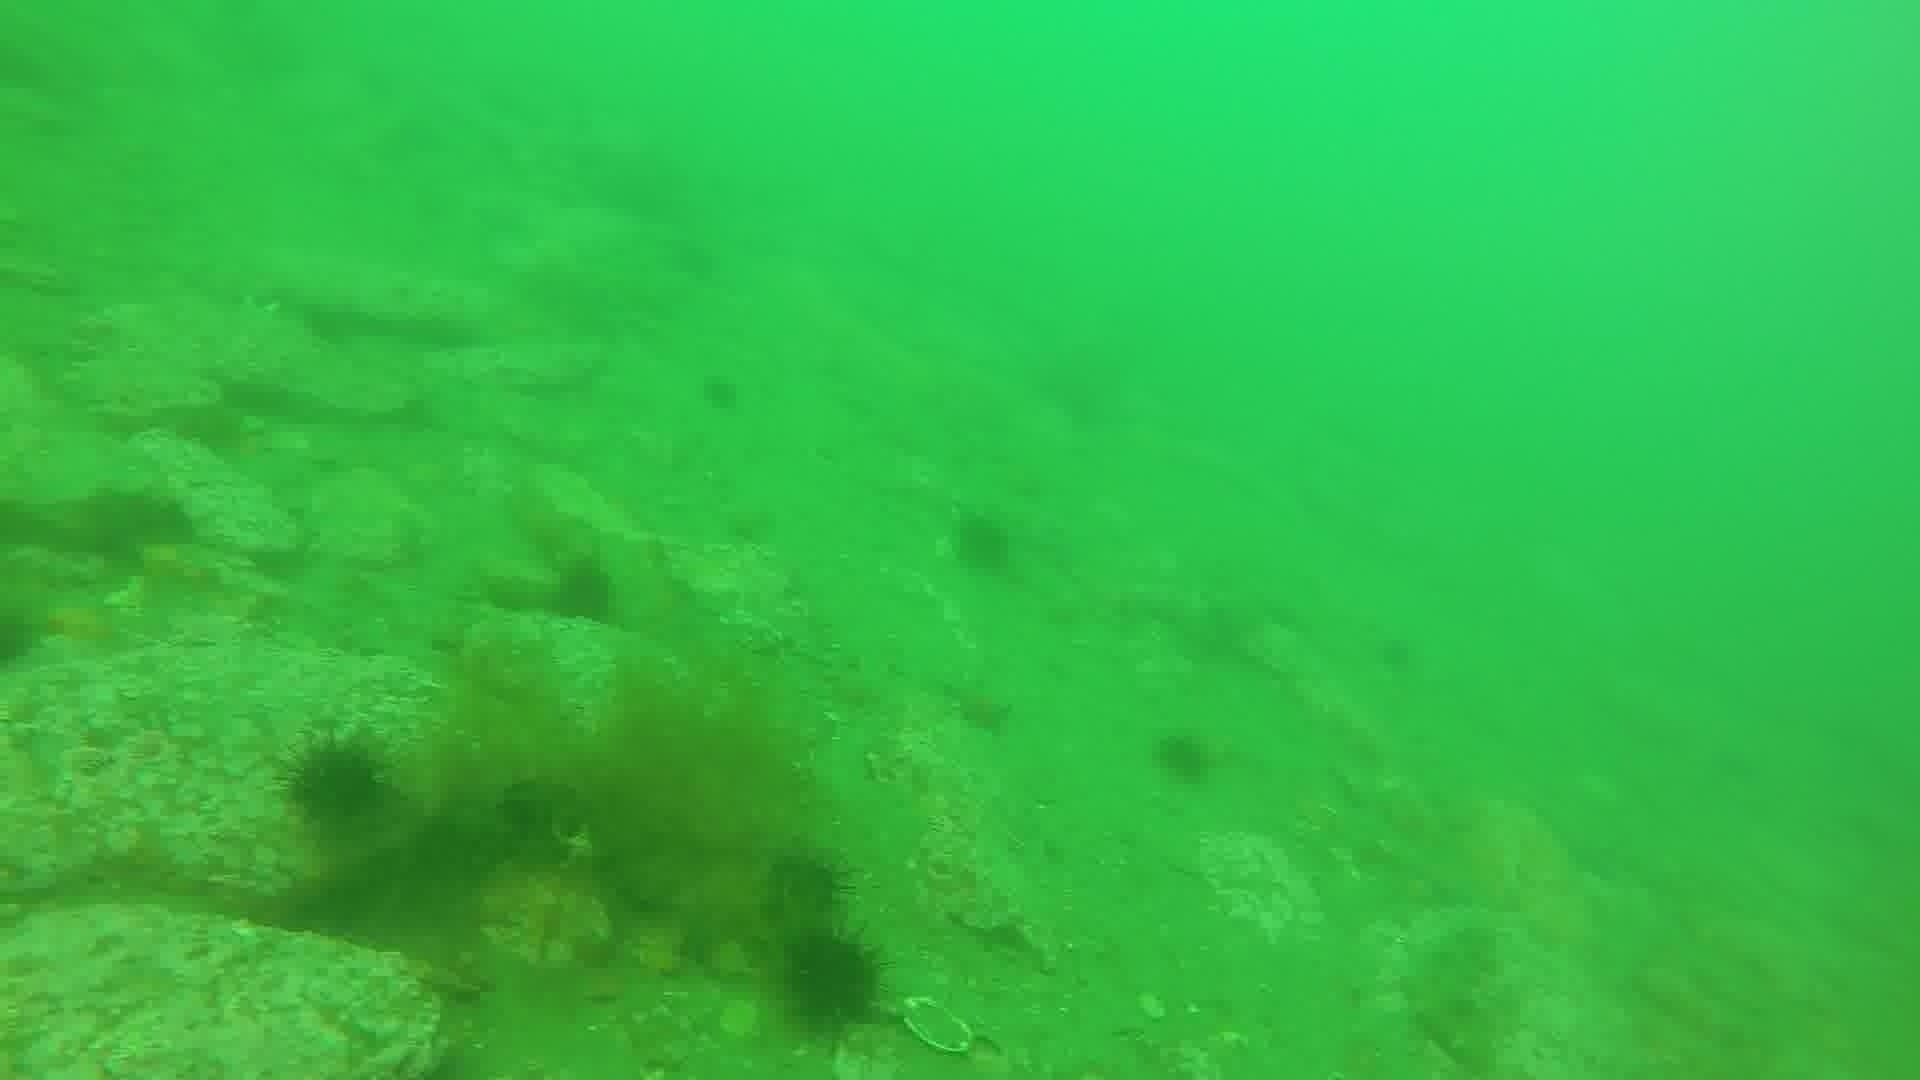echinus: (775, 924, 889, 1036), (277, 735, 392, 831), (754, 843, 851, 931), (545, 555, 622, 630), (945, 506, 1021, 578), (1149, 727, 1218, 789), (696, 369, 745, 415)
holothurian: (1396, 913, 1513, 1076)
starfish: (26, 588, 132, 654), (945, 678, 1017, 738)
